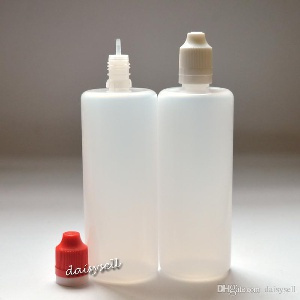emptybottle: (80, 39, 160, 284), (158, 33, 234, 285)
